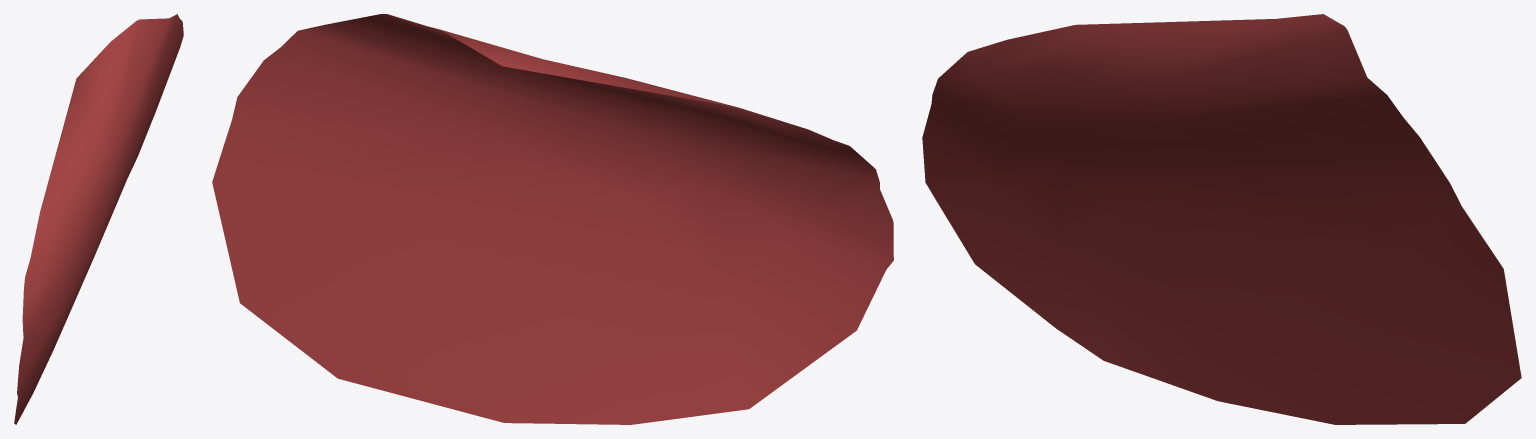
The model's file is omohyoid-muscle-or.glb.
The picture shows the model from 3 angles, left to right: view 1: azimuth 30°, elevation 25°; view 2: azimuth 150°, elevation 25°; view 3: azimuth 270°, elevation 25°; orthographic projection. The views are drawn at different scales.
Visible parts, largest first — view 1: Omohyoid muscle.or; view 2: Omohyoid muscle.or; view 3: Omohyoid muscle.or.
Part boxes in pixels (x1=…): Omohyoid muscle.or: x1=14, y1=14, x2=183, y2=424; Omohyoid muscle.or: x1=212, y1=14, x2=893, y2=424; Omohyoid muscle.or: x1=922, y1=14, x2=1521, y2=424.
Size of the model in its own units: 0.00649 by 0.00565 by 0.00627.
